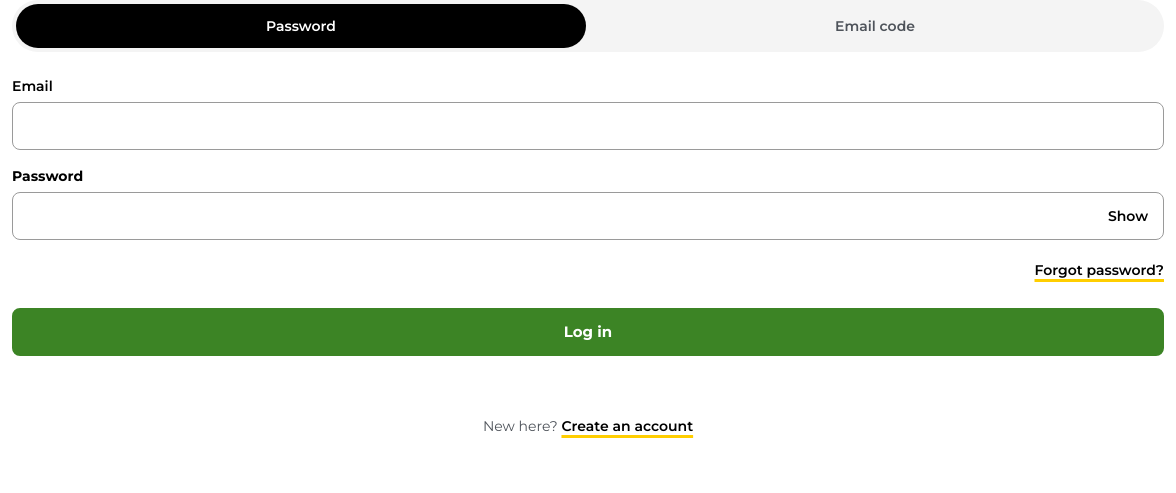
Test case: login form fields › counts down after a rate-limit response and disables the submit
Type "a@b.co" into the field labelled "Email" at (588, 126), box [12,102,1164,150]
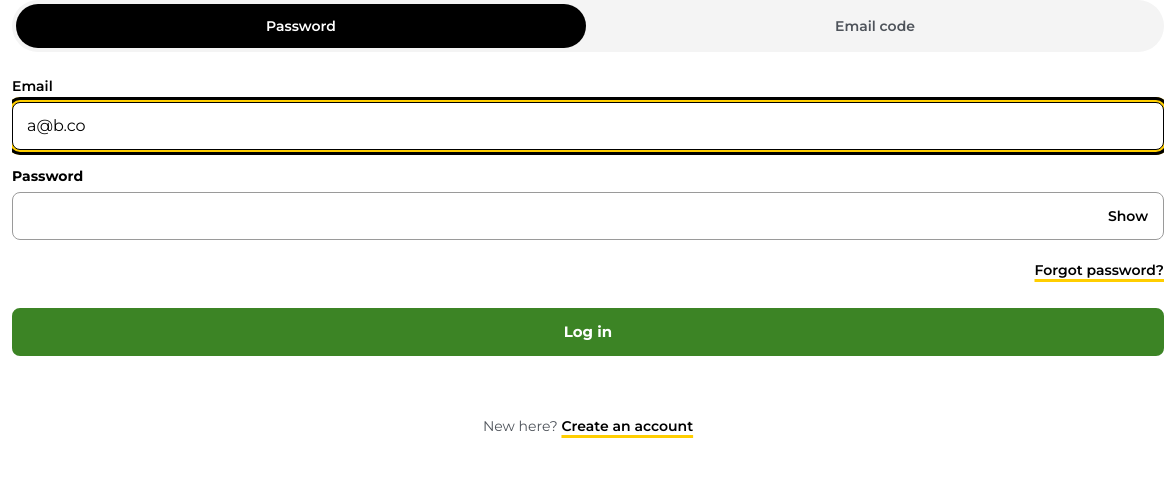
Type "pw123456" into the password field labelled "Password" at (588, 216), box [12,192,1164,240]
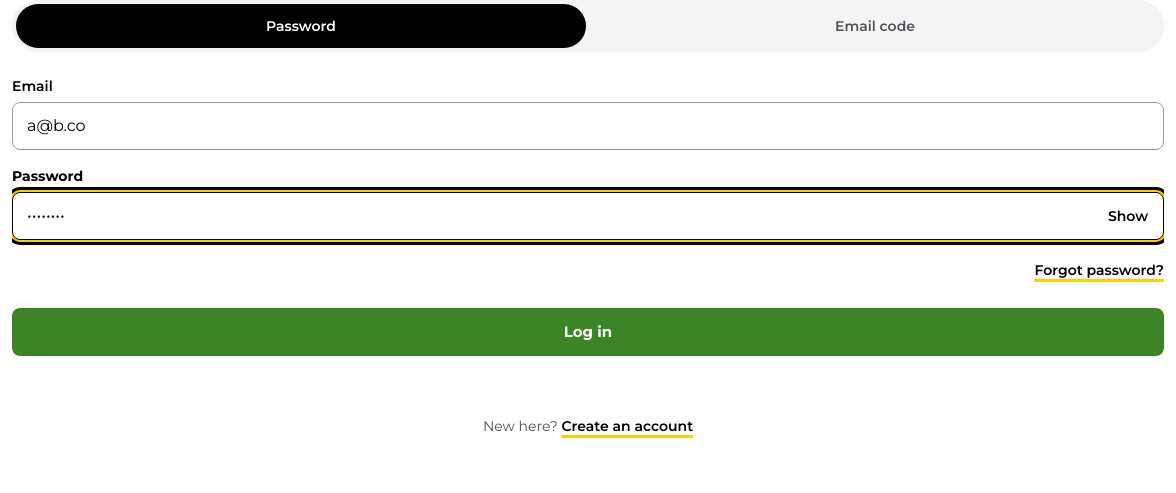
Click the button "Log in" at (588, 332), box [12,308,1164,356]
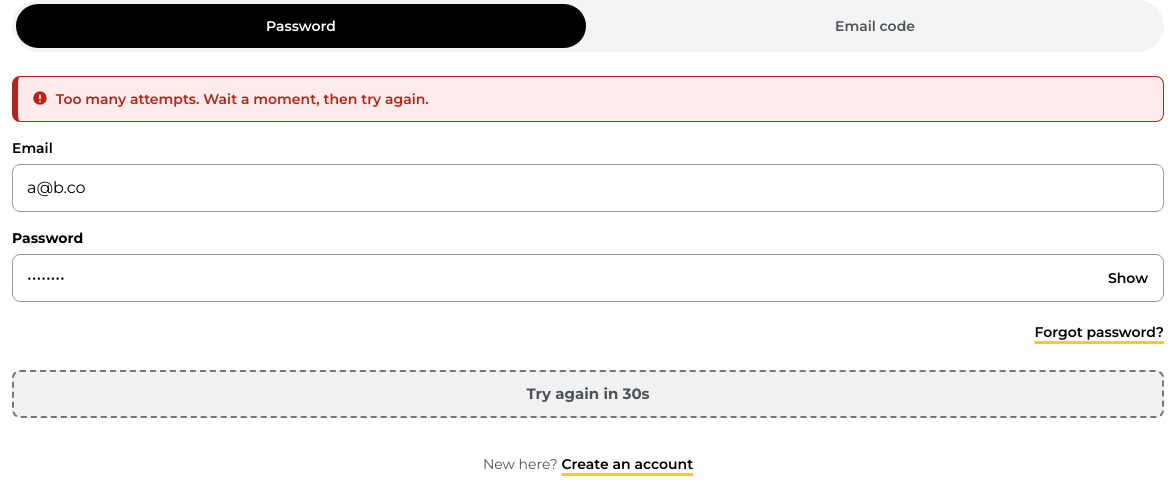
Now the button "Try again in 30s" is disabled, box [12,370,1164,418]
Now the message shows "Too many attempts", box [56,90,429,108]
